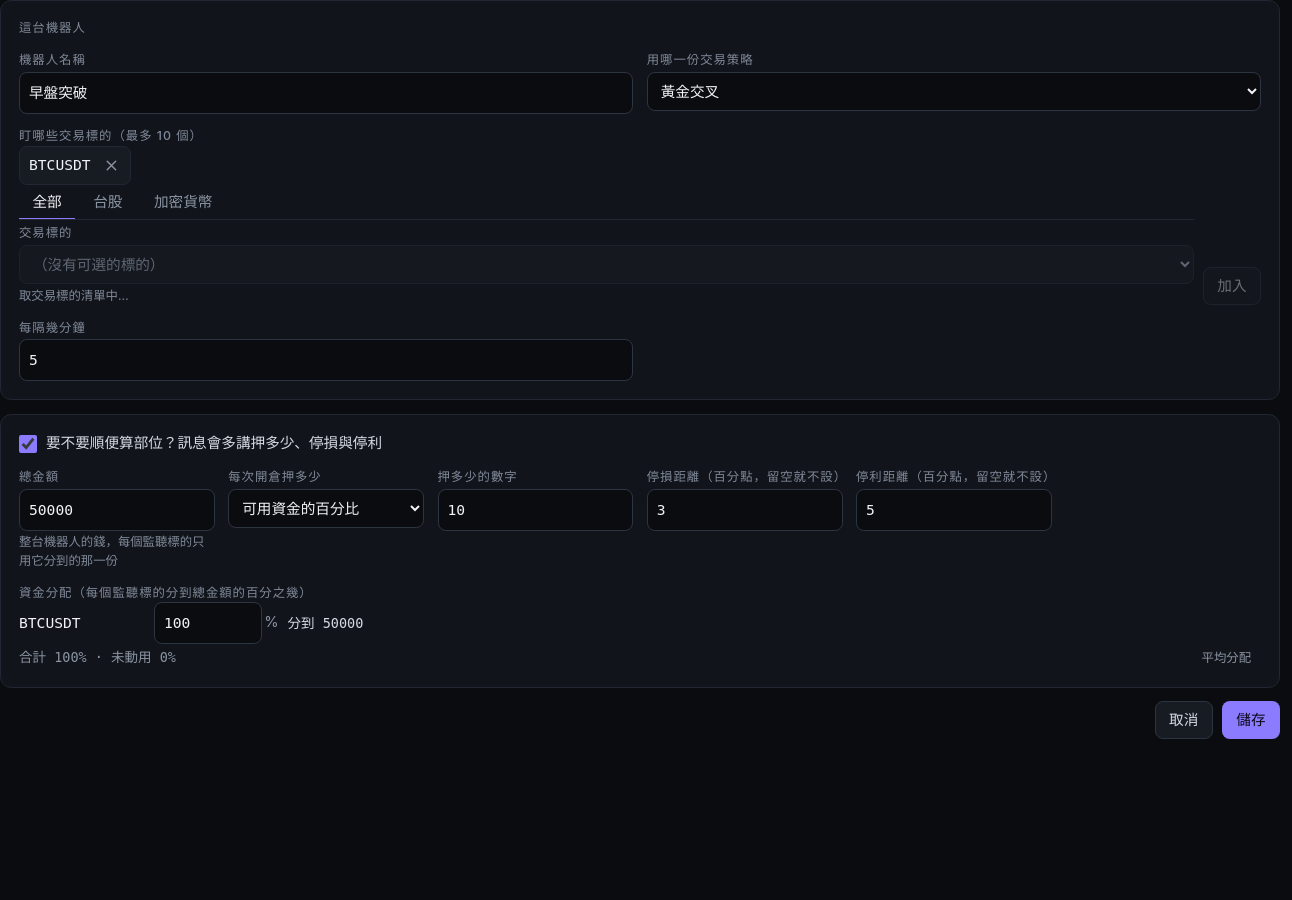
Test: StrategyBotForm 的建議部位 › 填錯了但把區塊收起來，就送得出去
那一台不建議部位，那一格填什麼都不影響它。
Replace the text in the number field with test id "bot-position-sizing-value-input" with "150" at {"x": 535, "y": 510}, box [438, 489, 633, 531]
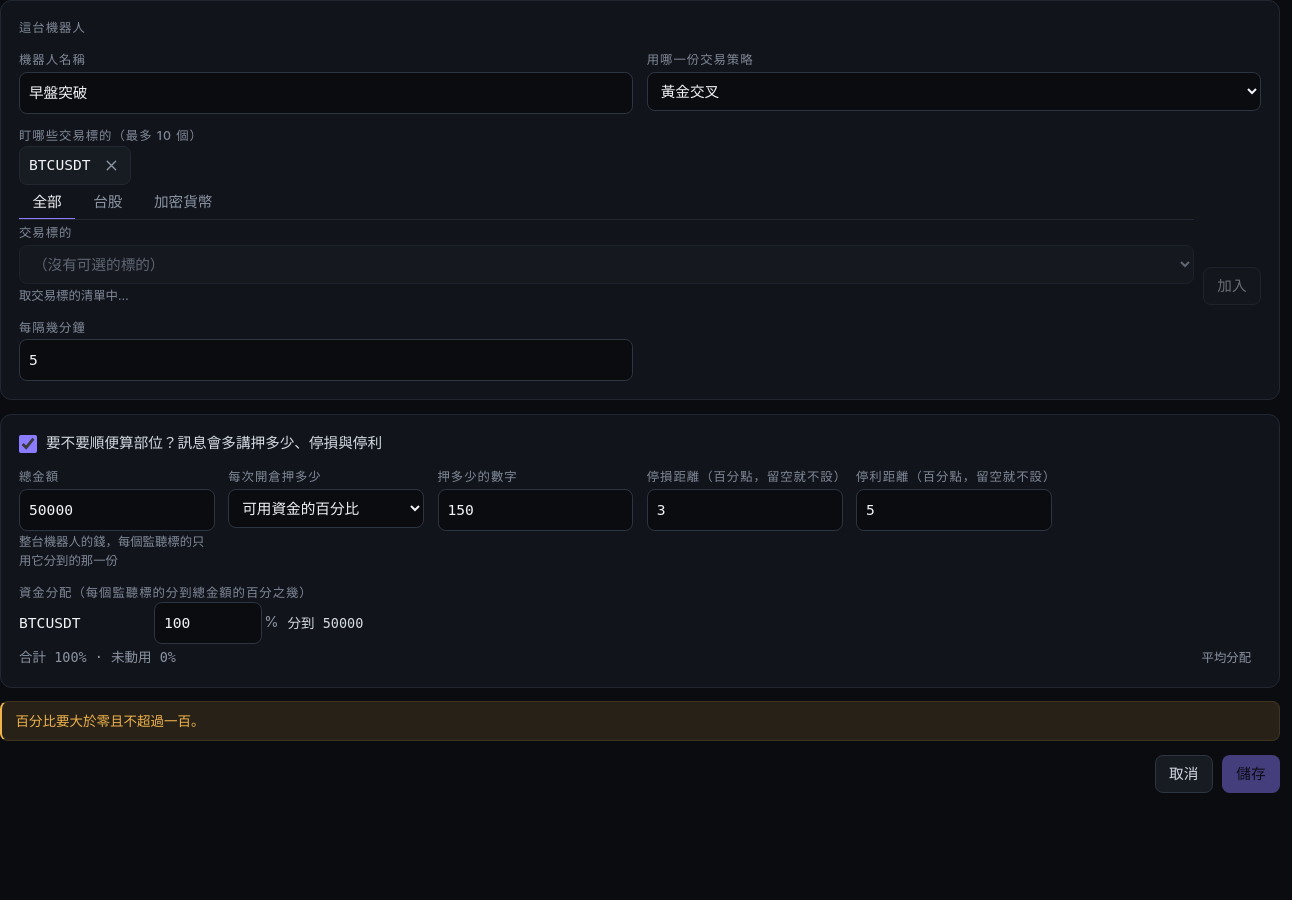
Click the checkbox with test id "bot-position-plan-toggle" at {"x": 28, "y": 444}, box [19, 435, 37, 453]
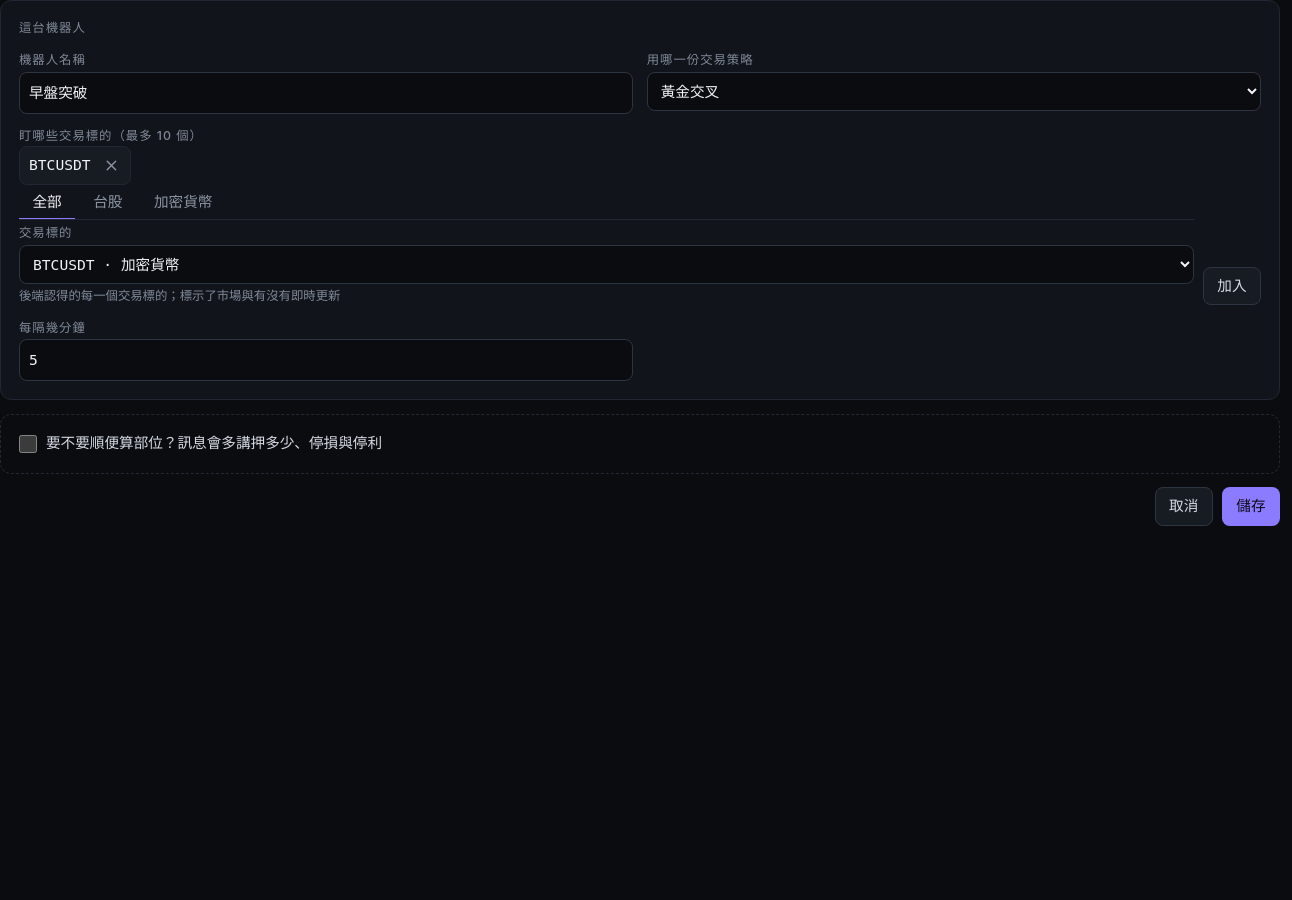
Check: the button with test id "bot-form-save" is enabled, box [1222, 487, 1280, 526]
